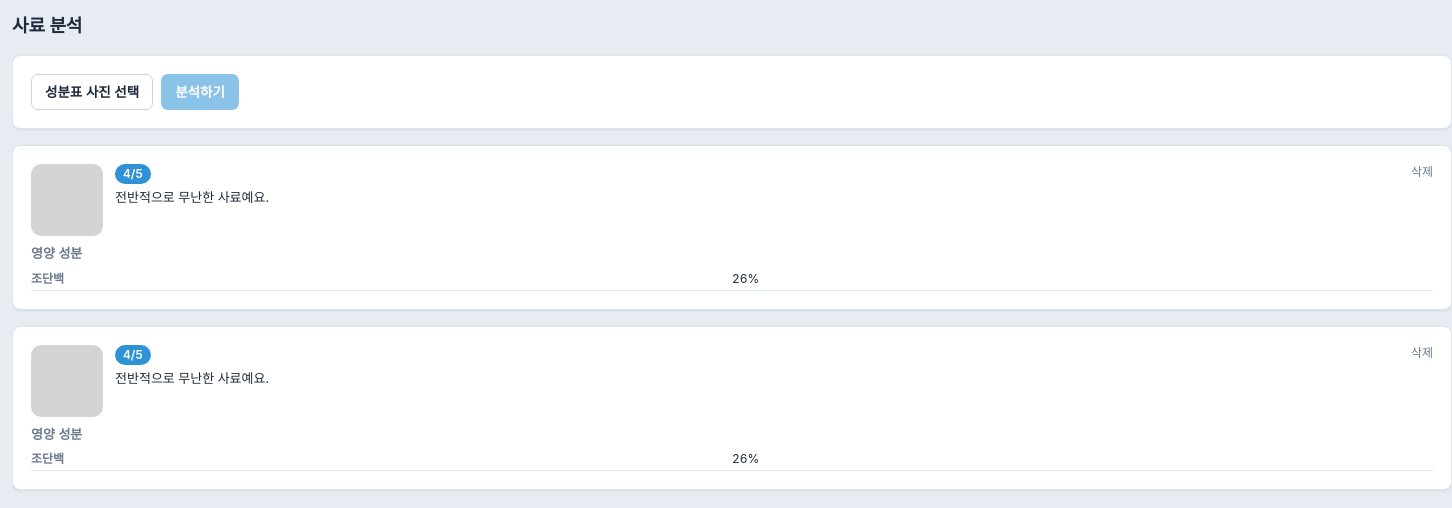
Test: DogFeedAnalysis — 삭제 2단계 확인 › 확인 단계는 그 카드에만 열린다
Step 1. Click the 1st button "삭제" → (1422, 172), box x1=1411 y1=164 x2=1433 y2=180
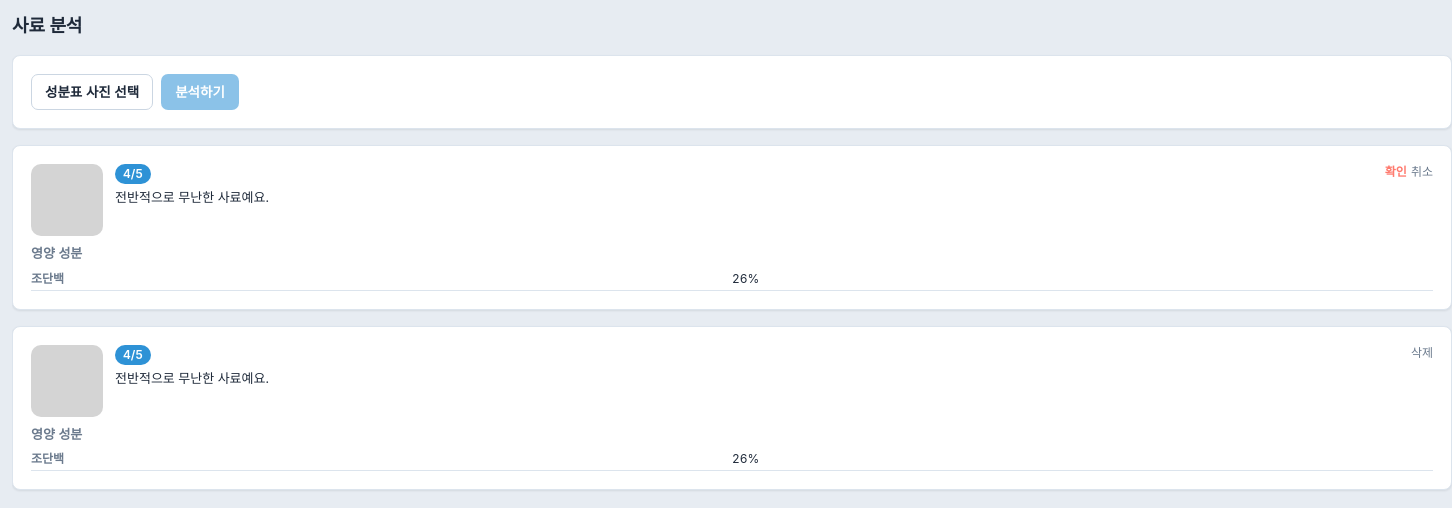
Expected: the number of buttons "삭제" is 1, x1=1411 y1=344 x2=1433 y2=360
Expected: the number of buttons "확인" is 1, x1=1385 y1=164 x2=1407 y2=180
